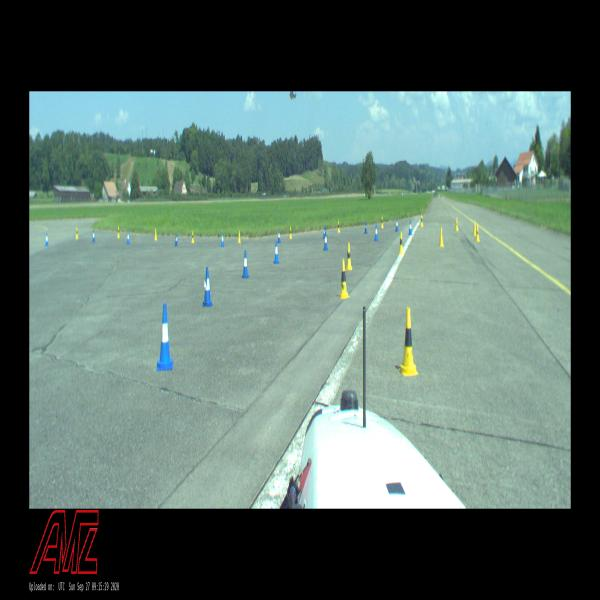blue_cone: (157, 303, 173, 370), (202, 266, 212, 306), (242, 250, 248, 277), (274, 241, 278, 262), (324, 231, 328, 250), (374, 224, 378, 240), (395, 218, 399, 232), (277, 229, 281, 242), (221, 232, 224, 247), (409, 220, 412, 235), (46, 232, 49, 246), (127, 231, 130, 244), (364, 221, 367, 234), (175, 233, 178, 245), (92, 230, 95, 242), (323, 226, 325, 238)
yellow_cone: (399, 308, 418, 376), (338, 260, 350, 299), (346, 243, 352, 270), (439, 227, 444, 247), (475, 223, 480, 242), (399, 232, 403, 253), (455, 216, 459, 232), (473, 220, 476, 236), (154, 229, 158, 240), (421, 215, 424, 227), (238, 231, 241, 242), (118, 226, 120, 238), (192, 231, 194, 242), (290, 227, 292, 238), (338, 221, 340, 232), (381, 216, 383, 227), (76, 228, 78, 238)
